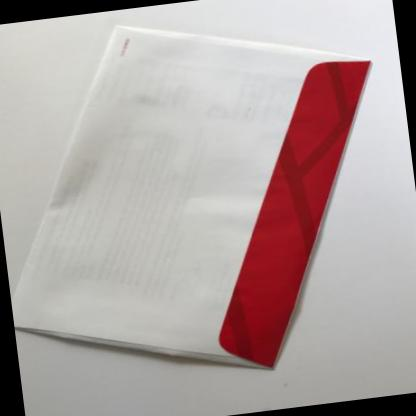Paper: (11, 25, 369, 369)
